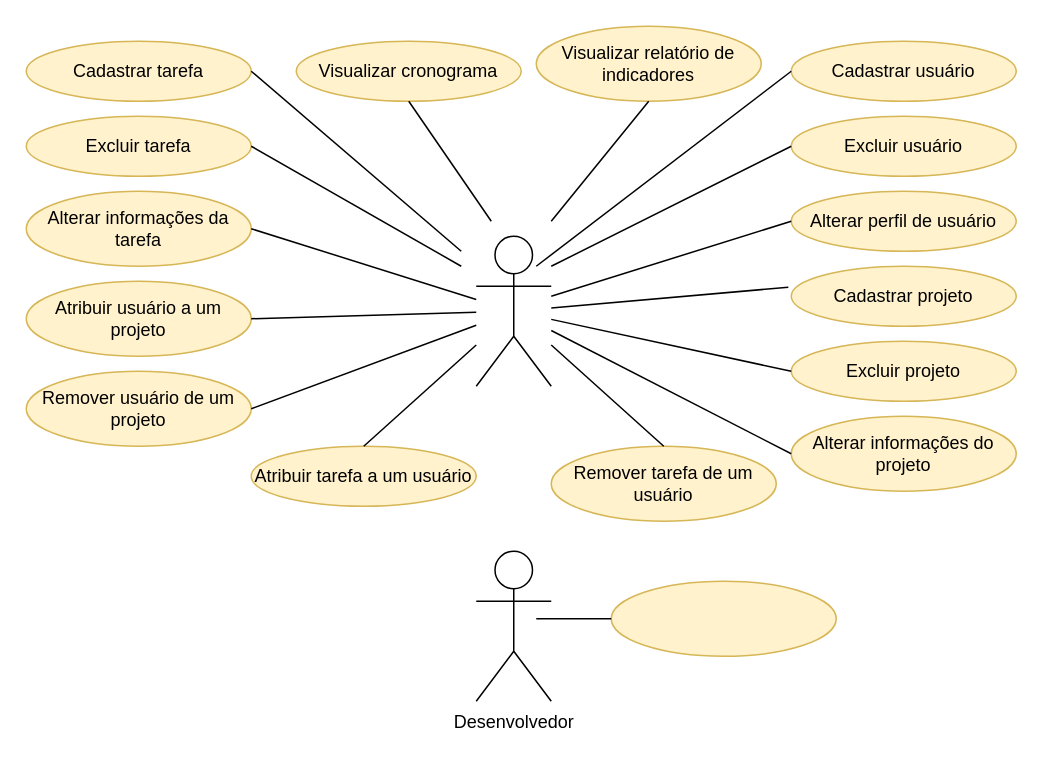
Some shapes in this 1043 by 759 pixel diagram are drawn without their labels. Here are the shapes that lost their labels. From the top down, the centre of each, then its label:
At (x=513, y=310): "Administrador".
At (x=723, y=618): "Atualizar status de tarefa".
